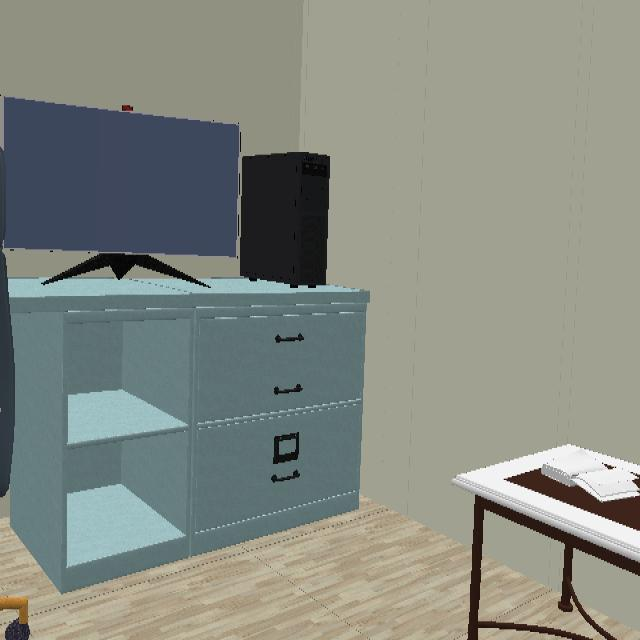book: (548, 445, 640, 497)
cabinet: (9, 281, 368, 592)
chair: (0, 199, 18, 500)
monitor: (2, 97, 243, 275)
table: (452, 459, 640, 640)
